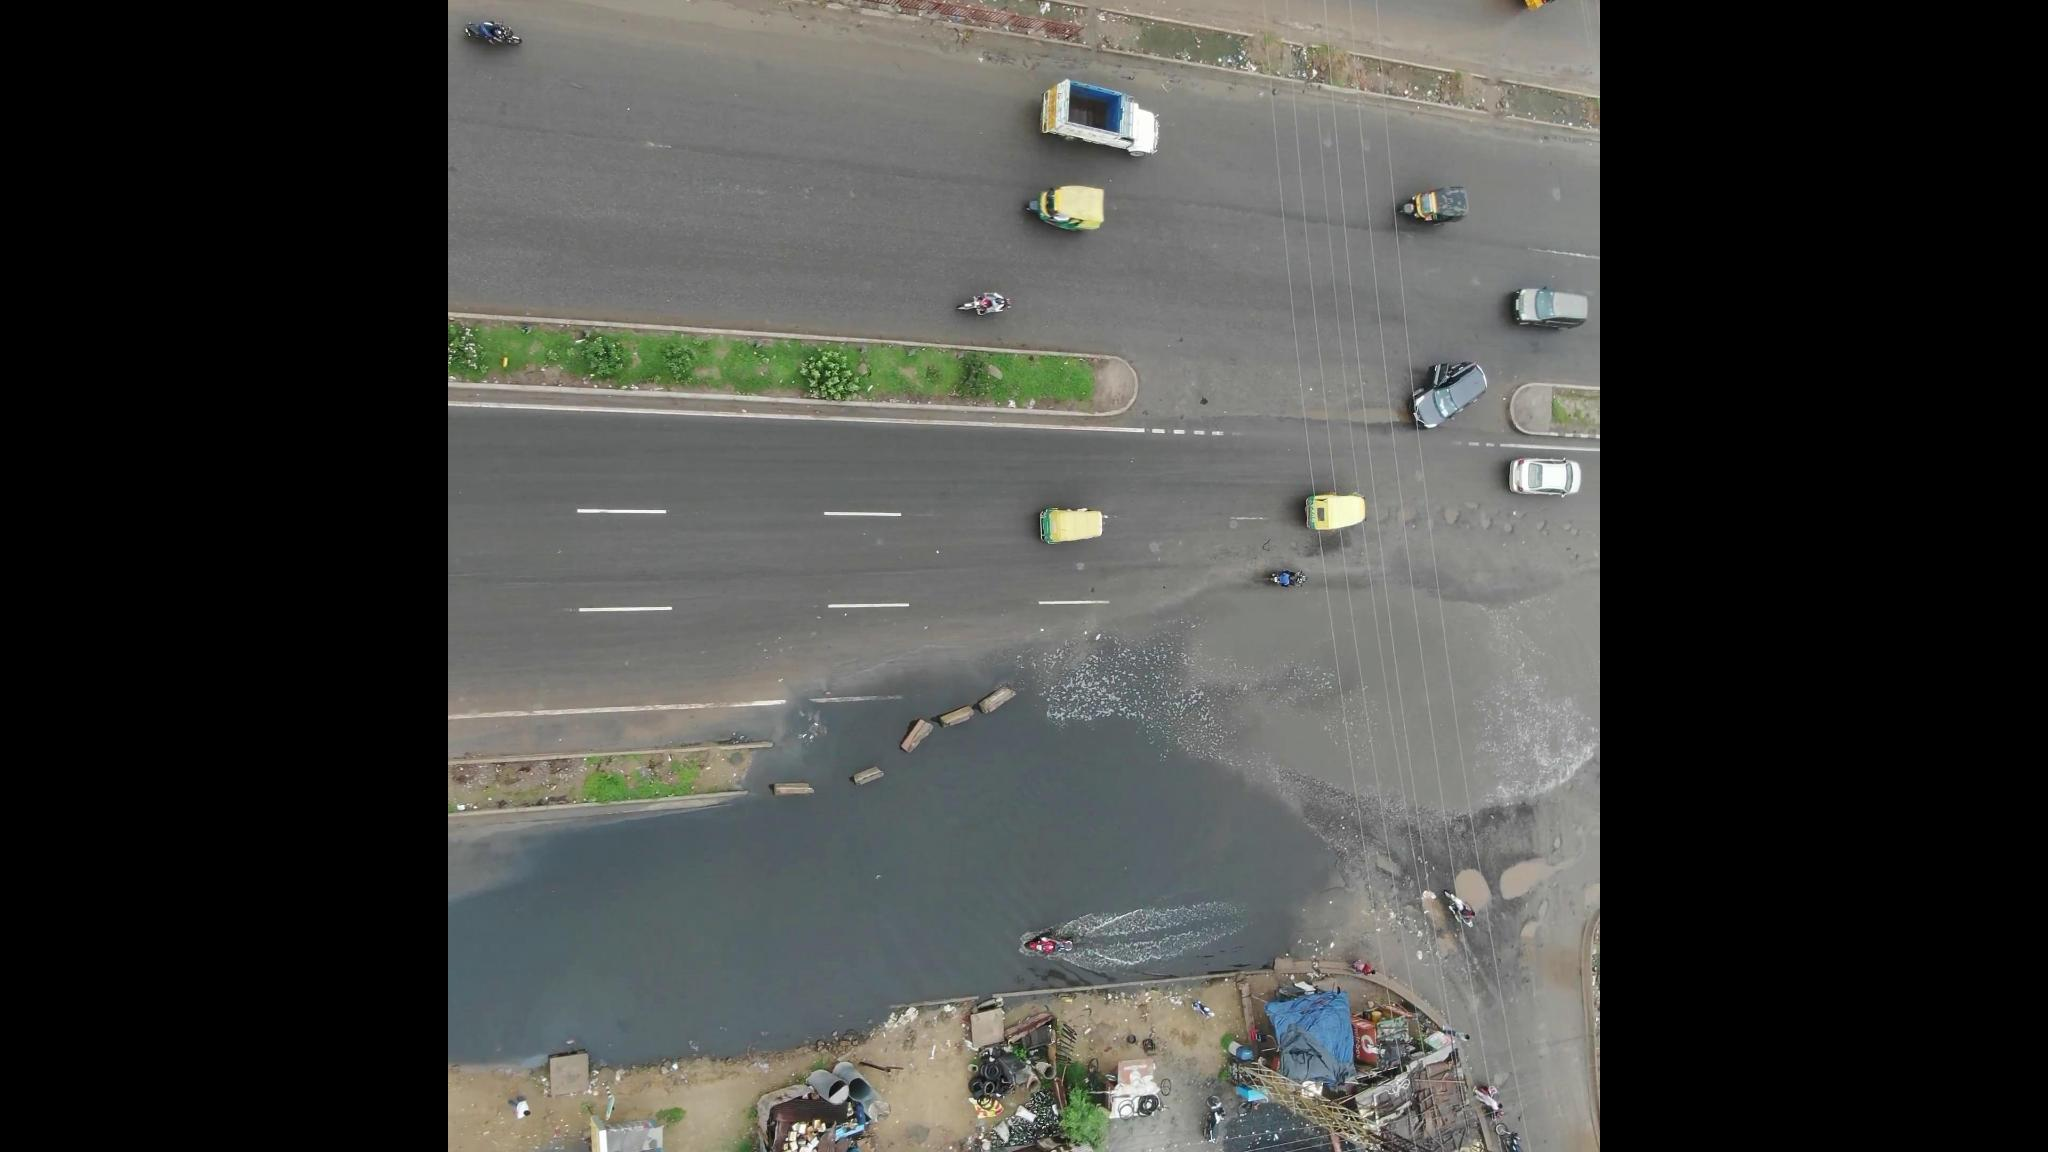Potholes: (1400, 859, 1567, 949), (1385, 494, 1581, 543), (1537, 165, 1585, 231), (1454, 249, 1497, 294)
Waterlogging: (467, 670, 1295, 1082), (1284, 557, 1575, 843)
